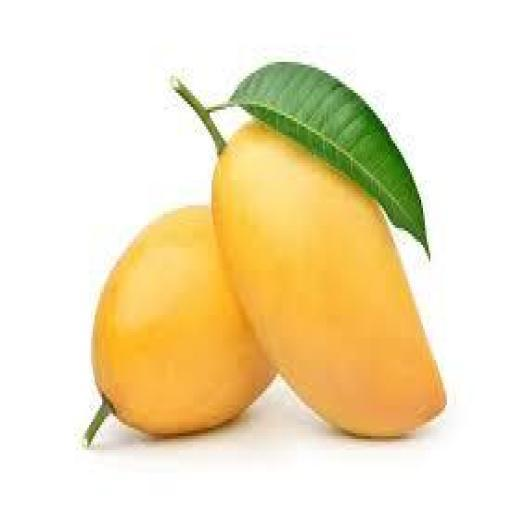mango: (214, 121, 445, 438), (91, 203, 272, 433)
